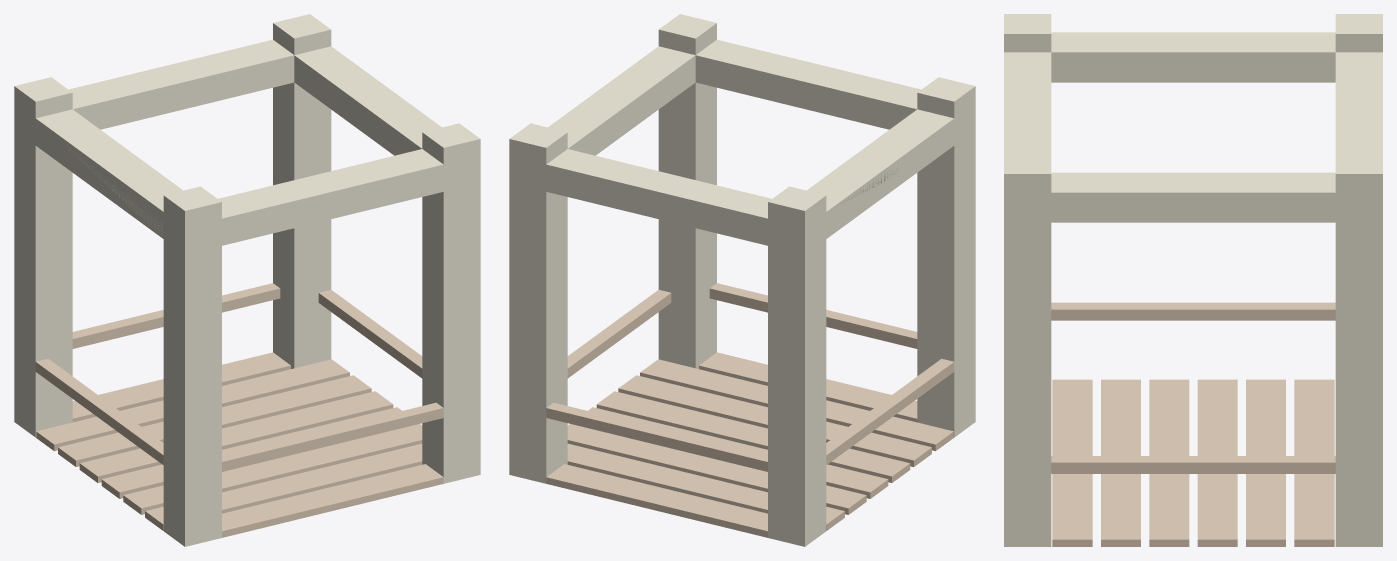
File: 1level.glb
3 renders of one model, left to right at view 1: azimuth 30°, elevation 25°; view 2: azimuth 150°, elevation 25°; view 3: azimuth 270°, elevation 25°, orthographic. The views are drawn at different scales.
Visible parts, largest first — view 1: towerSquareMidOpen, towerSquareMidOpen.005; view 2: towerSquareMidOpen, towerSquareMidOpen.005; view 3: towerSquareMidOpen, towerSquareMidOpen.005.
Boxes of the visible parts, left/top/right/bottom form: towerSquareMidOpen: left=14, top=14, right=480, bottom=546; towerSquareMidOpen.005: left=14, top=29, right=480, bottom=546; towerSquareMidOpen: left=509, top=14, right=975, bottom=546; towerSquareMidOpen.005: left=509, top=24, right=975, bottom=546; towerSquareMidOpen: left=1004, top=14, right=1382, bottom=546; towerSquareMidOpen.005: left=1004, top=34, right=1382, bottom=546.
Size of the model in its own units: 9.3 by 10.1 by 9.3.
